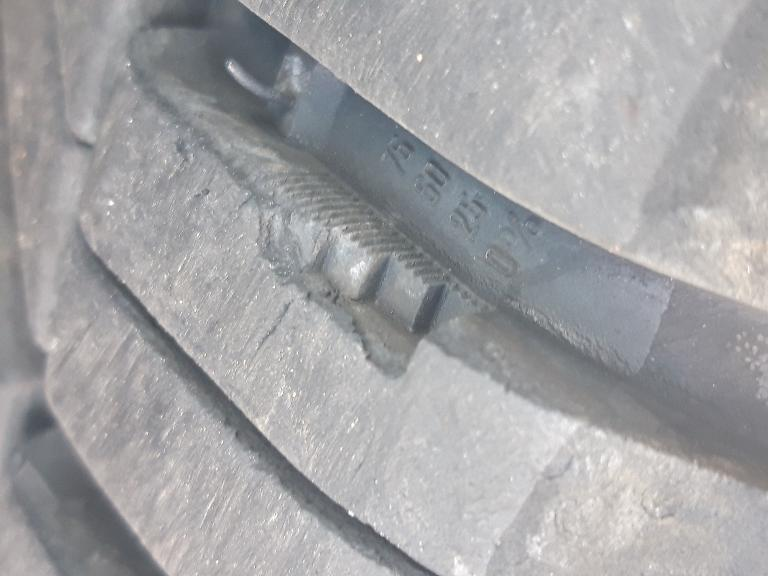temoin:80: (218, 161, 511, 392)
